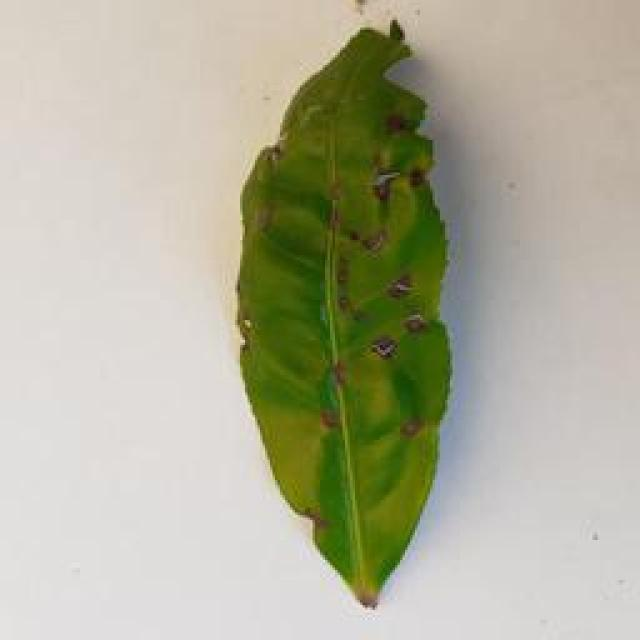Helopeltis: (226, 16, 461, 604)
